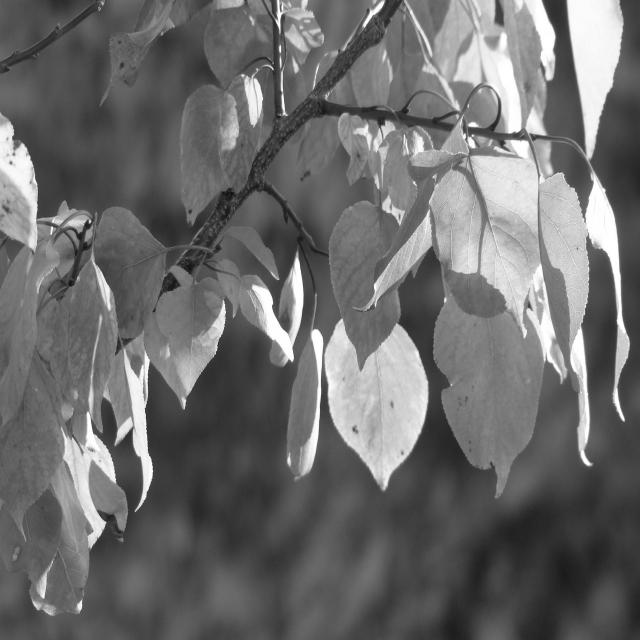Kayisi Yapragi: (431, 161, 540, 335), (328, 311, 422, 495), (287, 332, 322, 477), (219, 74, 262, 188)
